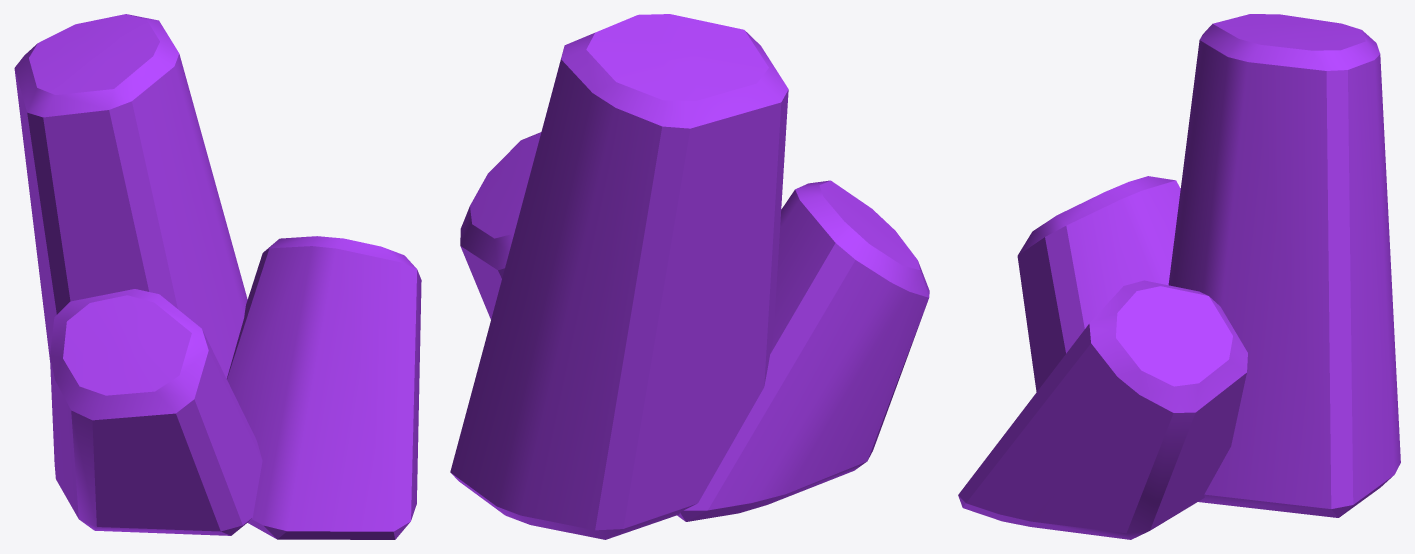
The model's file is g_crystal.glb.
3 views of the same model, side by side, from view 1: azimuth 30°, elevation 25°; view 2: azimuth 150°, elevation 25°; view 3: azimuth 270°, elevation 25° (orthographic). The views are drawn at different scales.
Parts seen in each view (by area): view 1: Crystal_Small; view 2: Crystal_Small; view 3: Crystal_Small.
Part boxes in pixels (bbox=[...]): Crystal_Small: bbox=[14, 14, 421, 539]; Crystal_Small: bbox=[450, 14, 929, 539]; Crystal_Small: bbox=[958, 14, 1400, 539].
Bounding box in the file's own units: 0.7645 × 0.8168 × 0.7817.
Materials: 1 (1 with a texture image).
